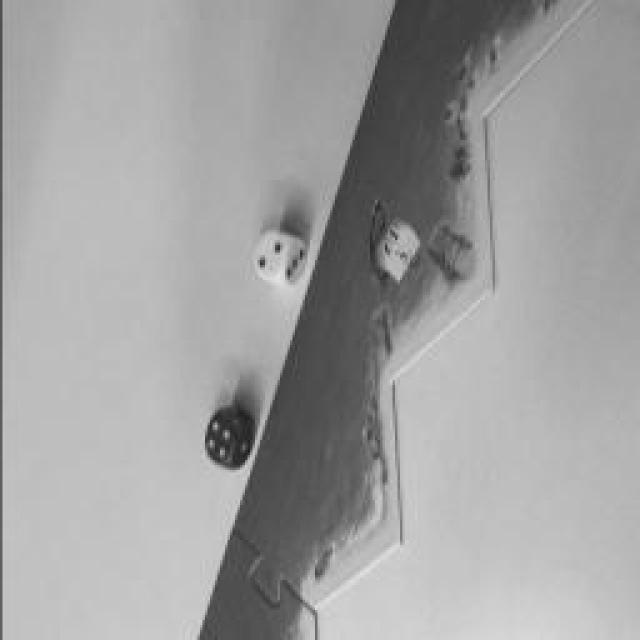dice_2: (254, 229, 286, 281)
dice_4: (204, 412, 236, 468)
